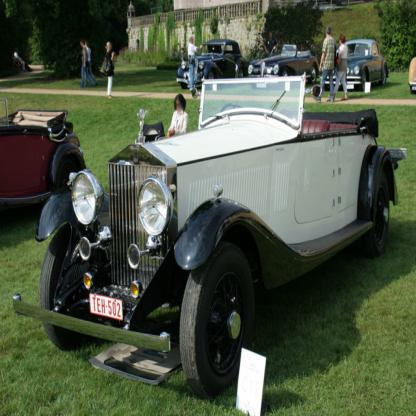car: (0, 96, 84, 206), (174, 36, 250, 92), (318, 36, 388, 90), (246, 41, 320, 85), (408, 56, 416, 93)
